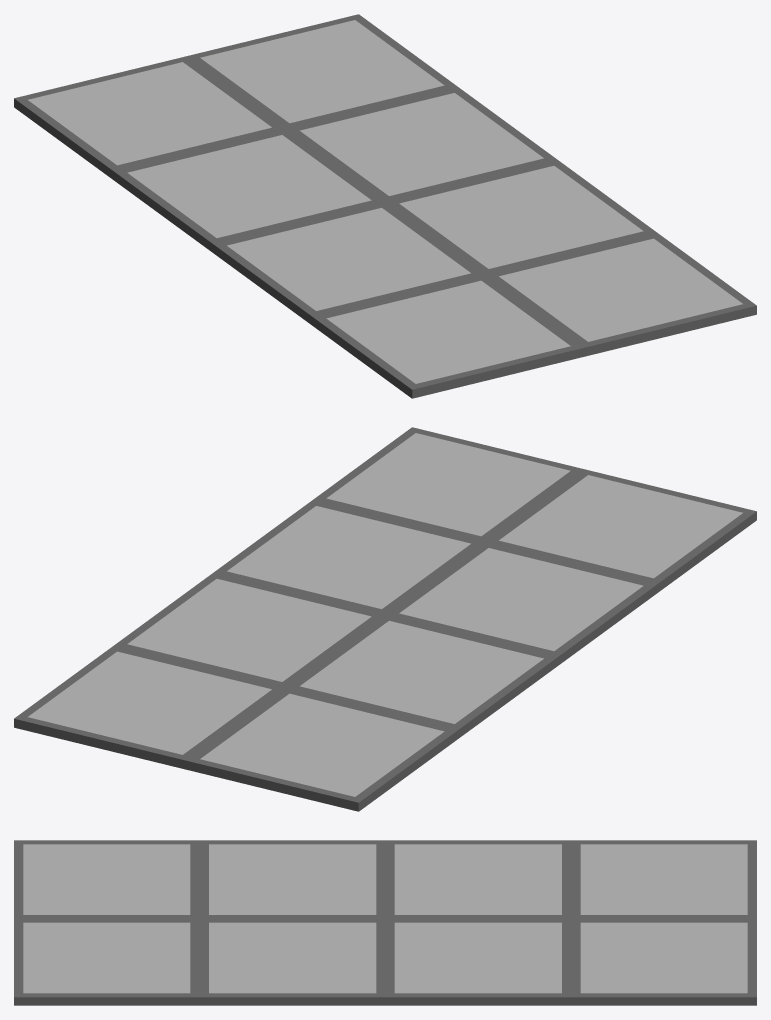
Rendered from ceiling_01_M.dae.
3 views of the same model, one above another, from view 1: azimuth 30°, elevation 25°; view 2: azimuth 150°, elevation 25°; view 3: azimuth 270°, elevation 25° (orthographic). The views are drawn at different scales.
Visible parts, largest first — view 1: Untitled; view 2: Untitled; view 3: Untitled.
Boxes of the visible parts, left/top/right/bottom form: Untitled: left=14, top=14, right=756, bottom=398; Untitled: left=14, top=427, right=756, bottom=811; Untitled: left=14, top=840, right=756, bottom=1005.
Size of the model in its own units: 1.2 by 2.4 by 0.03.
1 material, 1 textured.
